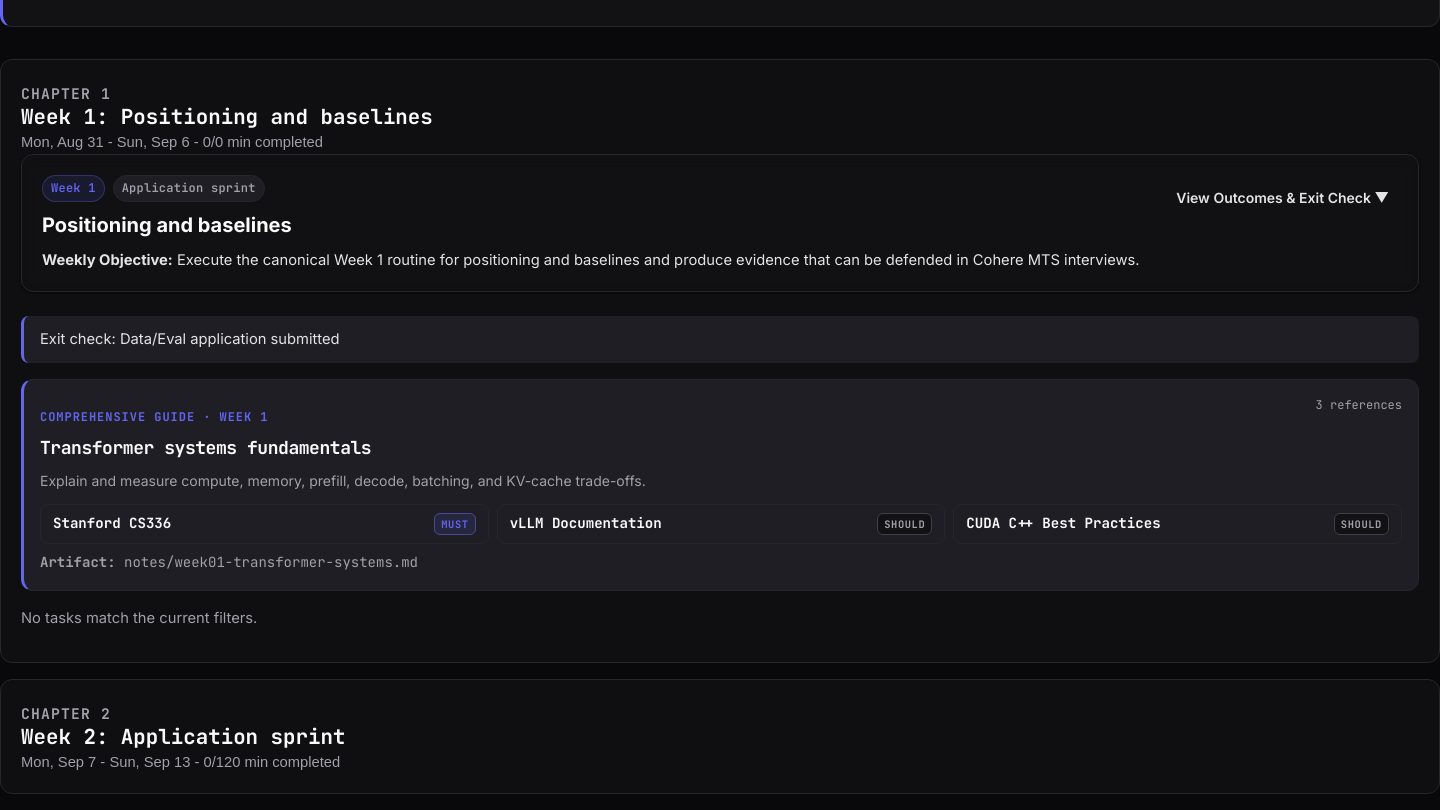
Scenario: PlanView › shows custom tasks (no source week) in the week of their scheduled date
(page scrolled)
Click the button "Week 2:". click: (61, 713)
box: 21,700 -> 1419,770
(page scrolled)
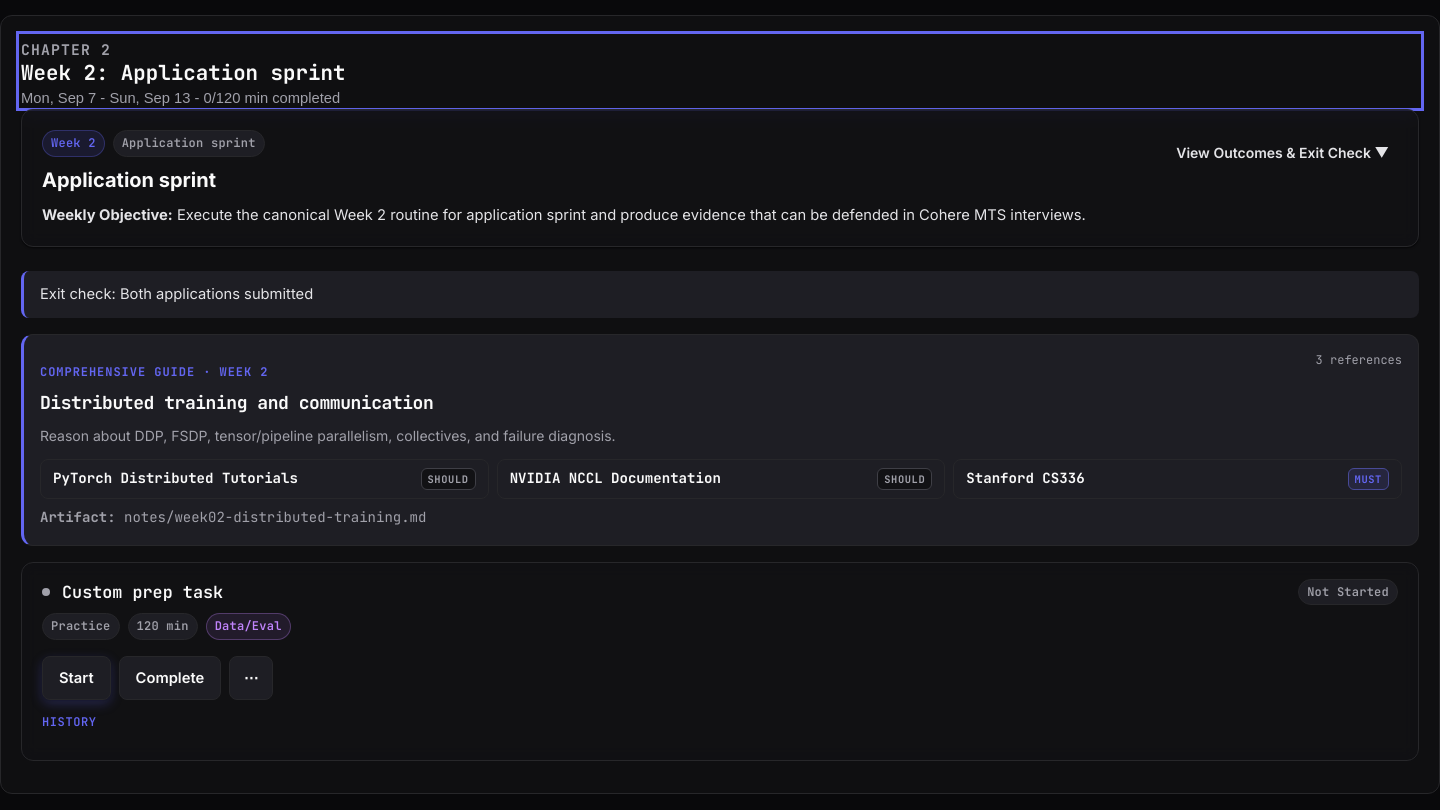
Expected: the heading "Custom prep task" is shown, 62,581 -> 223,603
